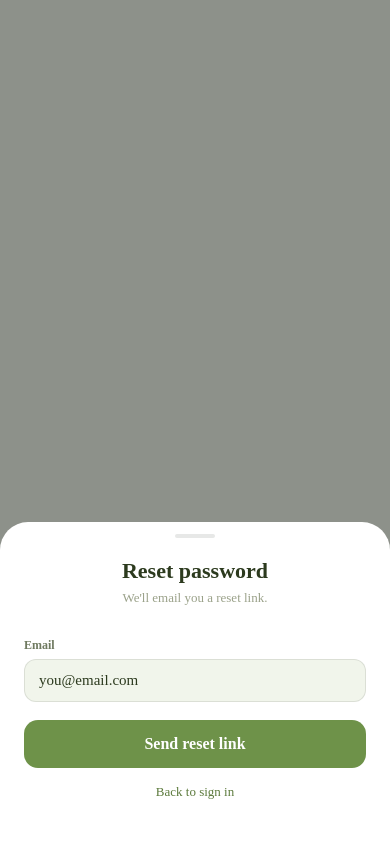
Test: AuthSheet › forgot password mode › shows error for invalid email in forgot mode
The width and height of the screenshot is (390, 844).
In the field with test id "auth-email": (195, 680) [24,659,366,702], type "notanemail"
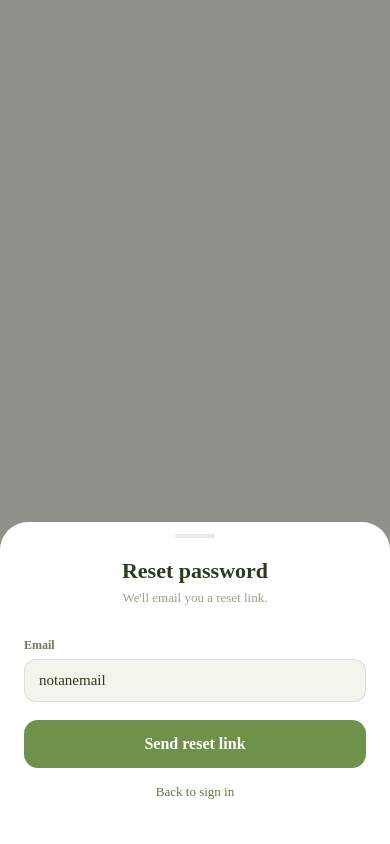
Click the element with test id "auth-submit": click(195, 744) [24,720,366,768]
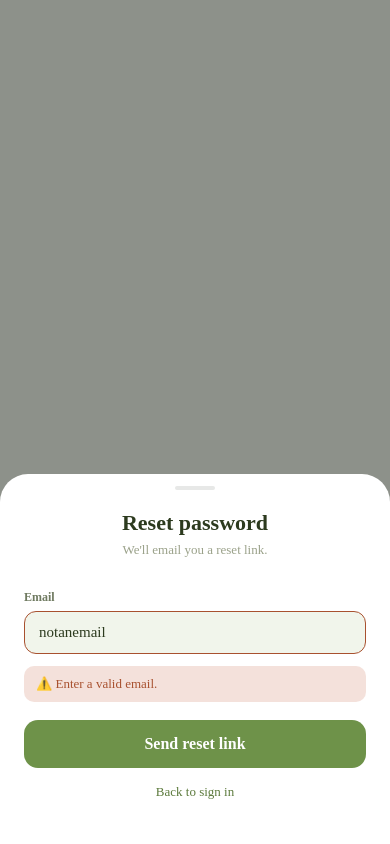
Now the text "⚠️ Enter a valid email." is shown, box [36,676,157,691]
